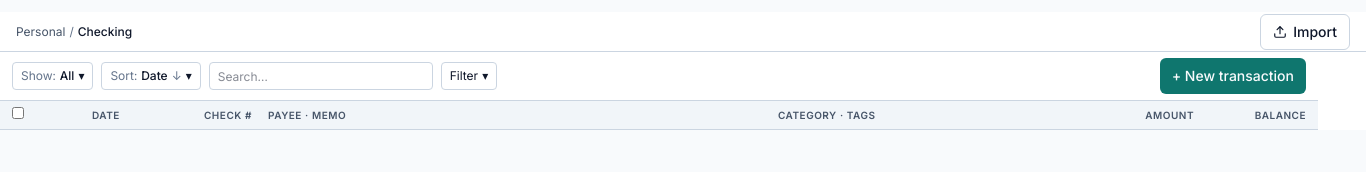
Test: BankRegisterPage › renders the Show dropdown and the New-transaction button in one controls row
This screenshot has width=1366, height=172.
// All status views live inside the dropdown (opened on click).
What coordinates should you click on to do the following:
click the button "Show: All ▾"
I would click on:
 (53, 76)
Its box is x1=12 y1=62 x2=93 y2=90.
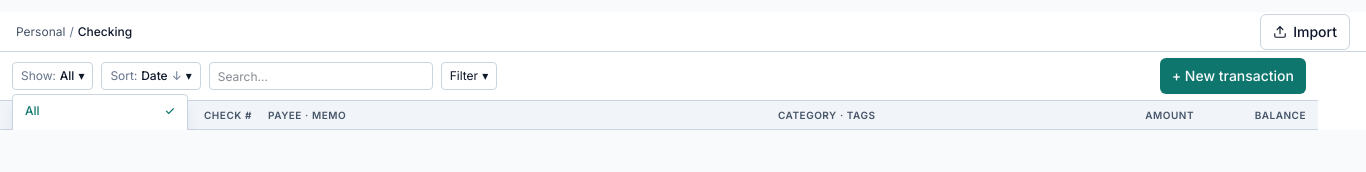
Expected: the option "All ✓" is shown, x1=13 y1=99 x2=187 y2=123
